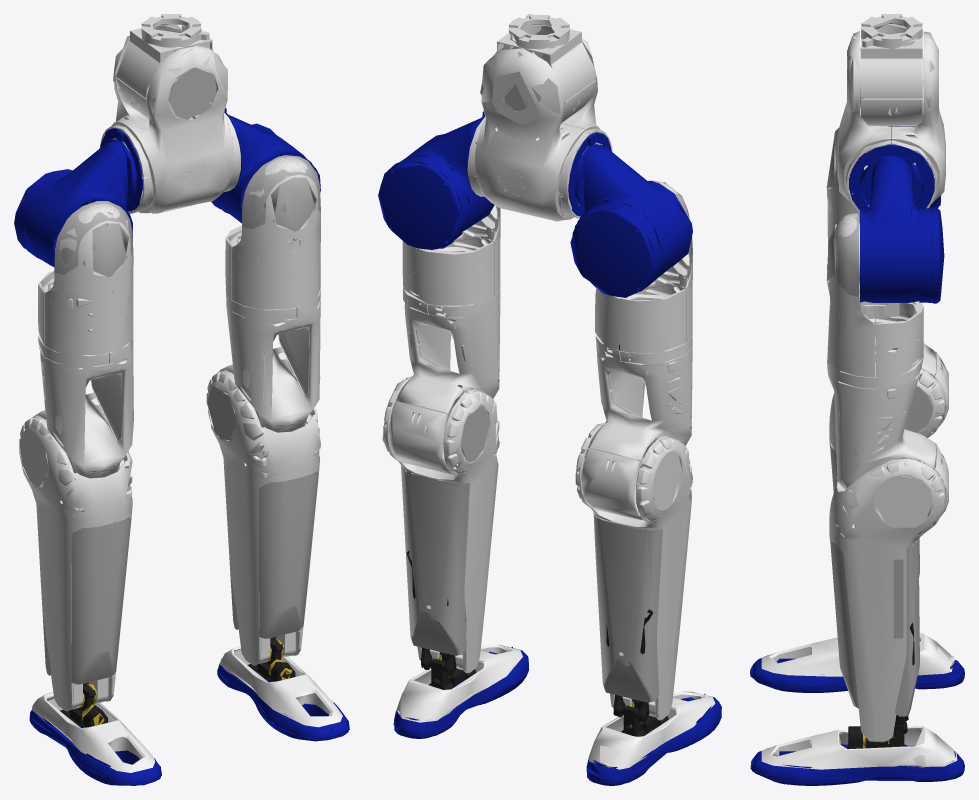
File: rp1-lower-body-web.glb
3 renders of one model, left to right at view 1: azimuth 30°, elevation 25°; view 2: azimuth 150°, elevation 25°; view 3: azimuth 270°, elevation 25°, orthographic. The views are drawn at different scales.
Visible parts, largest first — view 1: Plane.003, foot-2.006; view 2: Plane.003, foot-2.006; view 3: Plane.003, foot-2.006.
Boxes of the visible parts, x1,y1,x2,y2 form: Plane.003: (14, 14, 349, 785); foot-2.006: (33, 327, 309, 440); Plane.003: (378, 14, 721, 785); foot-2.006: (389, 324, 642, 519); Plane.003: (750, 14, 964, 785); foot-2.006: (934, 351, 948, 515).
Bounding box in the file's own units: 0.367 × 0.8957 × 0.2494.
Materials: 1 (1 with a texture image).
